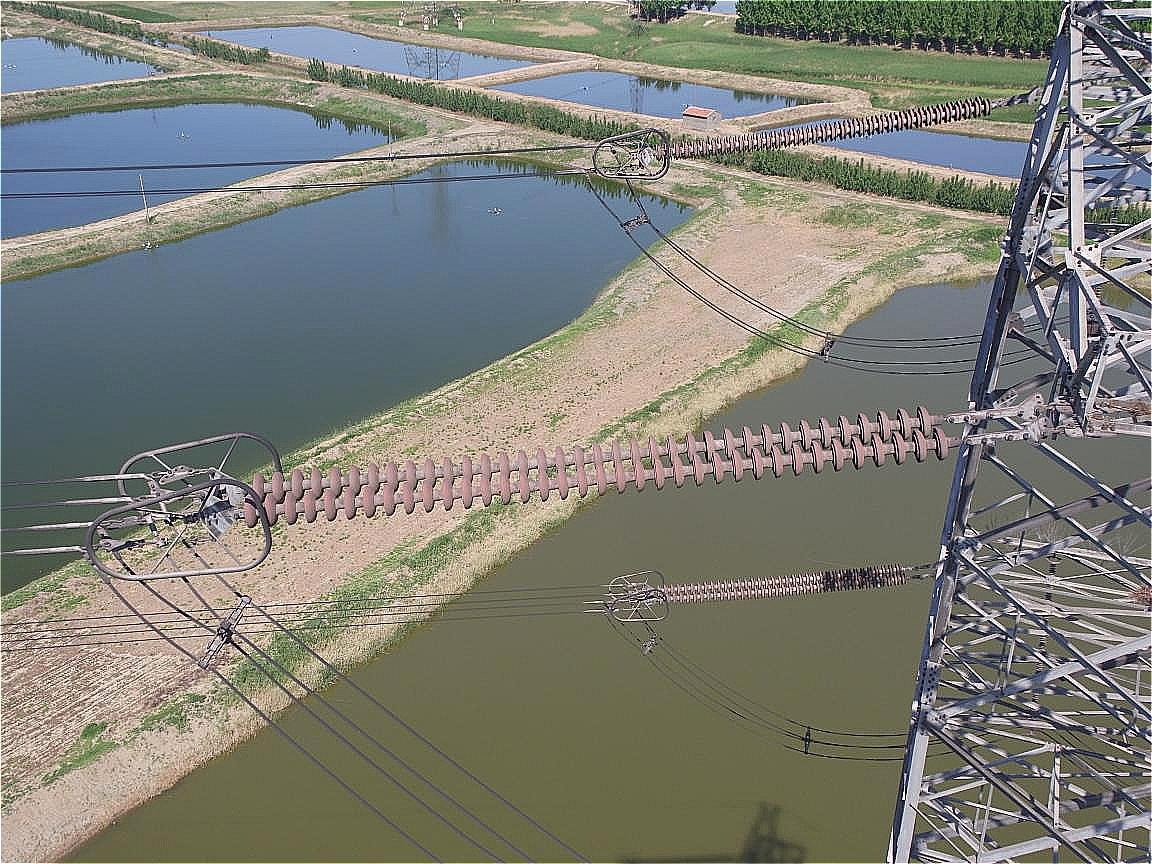insultor1: (239, 389, 966, 536), (655, 563, 921, 614)
insultor2: (681, 88, 1004, 171)
